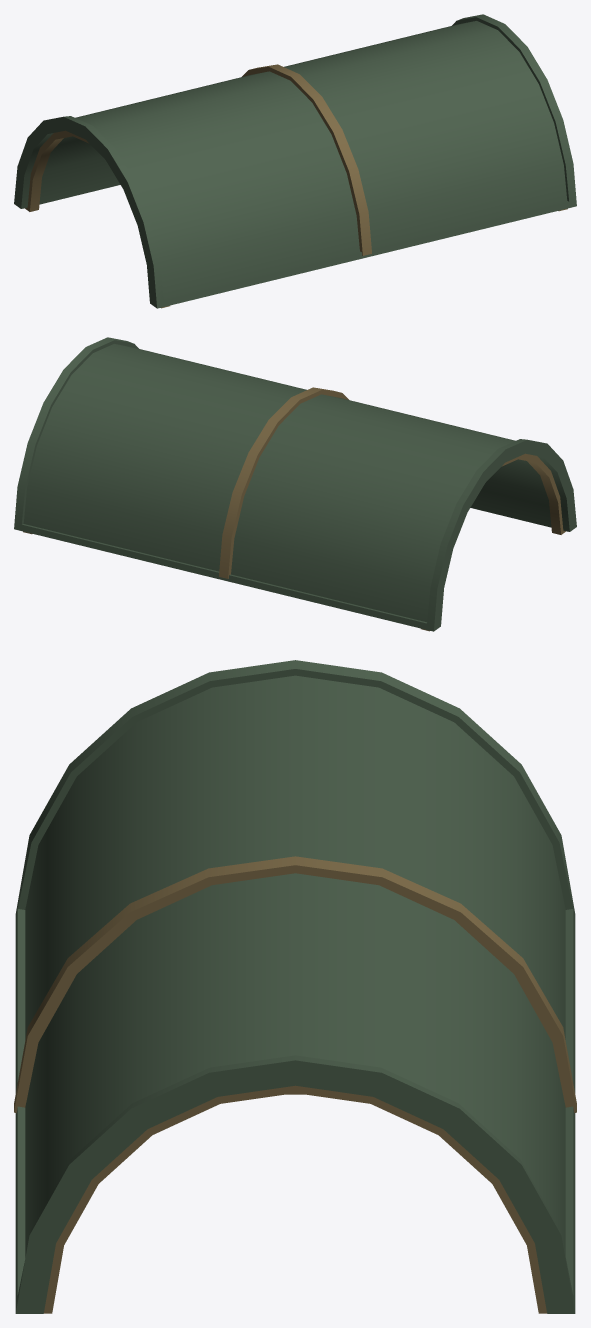
The model's file is WW2_Hangar.fbx.
3 views of the same model, one above another, from view 1: azimuth 30°, elevation 25°; view 2: azimuth 150°, elevation 25°; view 3: azimuth 270°, elevation 25° (orthographic). The views are drawn at different scales.
Parts seen in each view (by area): view 1: pPipe6; view 2: pPipe6; view 3: pPipe6.
Part boxes in pixels (x1,y1,x2,y2): pPipe6: [14, 14, 576, 308]; pPipe6: [14, 337, 576, 631]; pPipe6: [14, 660, 576, 1313].
Bounding box in the file's own units: 9.14 × 2.76 × 5.43.
